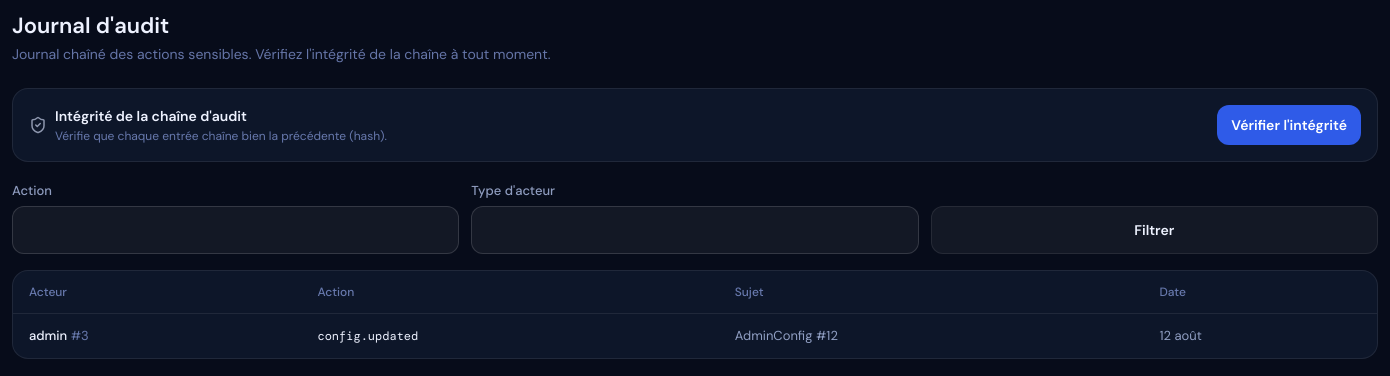
Scenario: AuditPage — chain integrity › reports an INTACT chain
This screenshot has width=1390, height=376.
Expected: the text "config.updated" is shown, [301, 314, 719, 358]
Step 1. Click the button "Vérifier l'intégrité" → coordinates (1289, 125), box [1217, 105, 1361, 145]
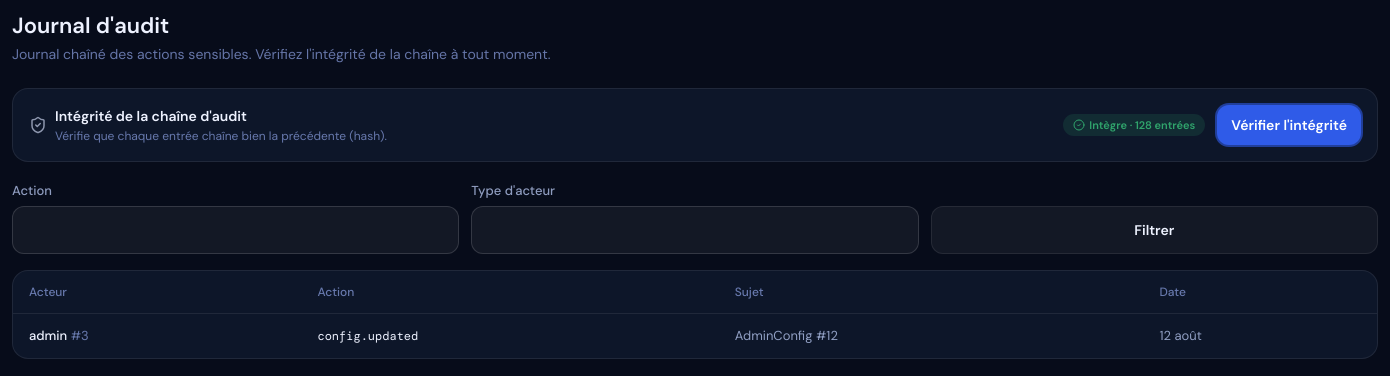
Expected: the text "Intègre · 128 entrées" is shown, [1073, 117, 1195, 133]
